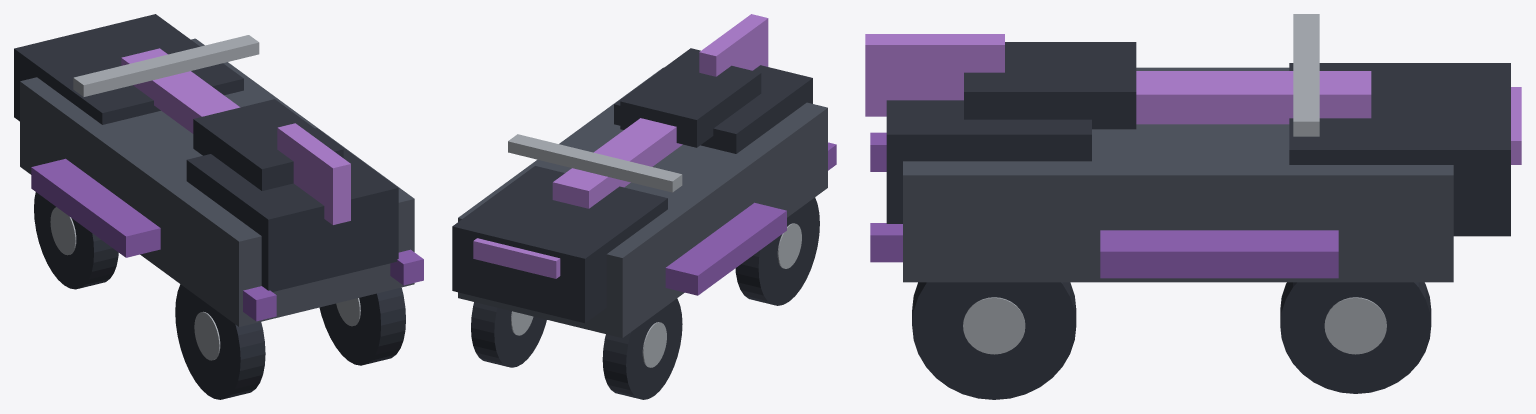
The model's file is specter_bike.glb.
3 renders of one model, left to right at view 1: azimuth 30°, elevation 25°; view 2: azimuth 150°, elevation 25°; view 3: azimuth 270°, elevation 25°, orthographic. The views are drawn at different scales.
Visible parts, largest first — view 1: world; view 2: world; view 3: world.
Boxes of the visible parts, x1=… form: world: x1=14, y1=14, x2=423, y2=399; world: x1=452, y1=14, x2=836, y2=399; world: x1=865, y1=14, x2=1521, y2=399.
Size of the model in its own units: 2.16 by 2.08 by 3.99.
